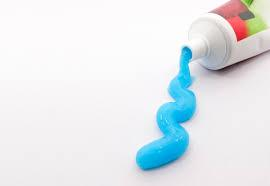toothpaste: (172, 1, 270, 68)
